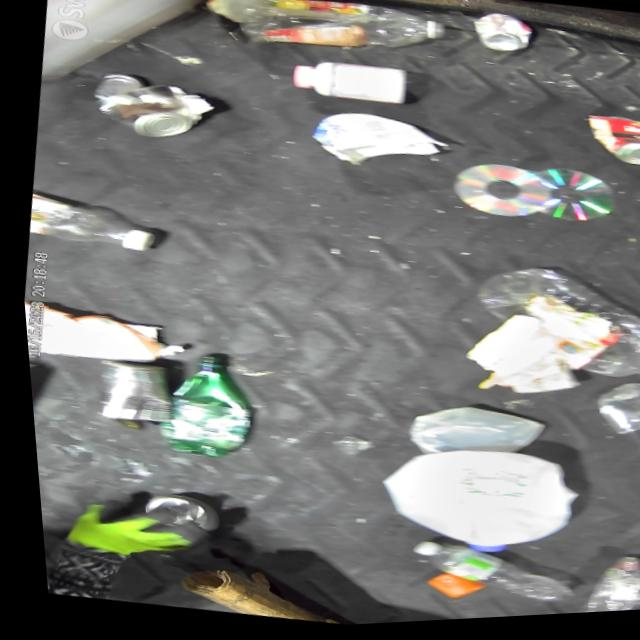can: (81, 64, 230, 153), (82, 351, 176, 435), (567, 115, 640, 185), (125, 494, 205, 554), (574, 379, 640, 449), (460, 23, 539, 65)
milk_jug: (357, 432, 581, 576), (387, 396, 545, 480)
plastic_bottle: (459, 258, 640, 396), (387, 532, 575, 624), (234, 0, 452, 75), (20, 184, 167, 265), (552, 554, 640, 619)
